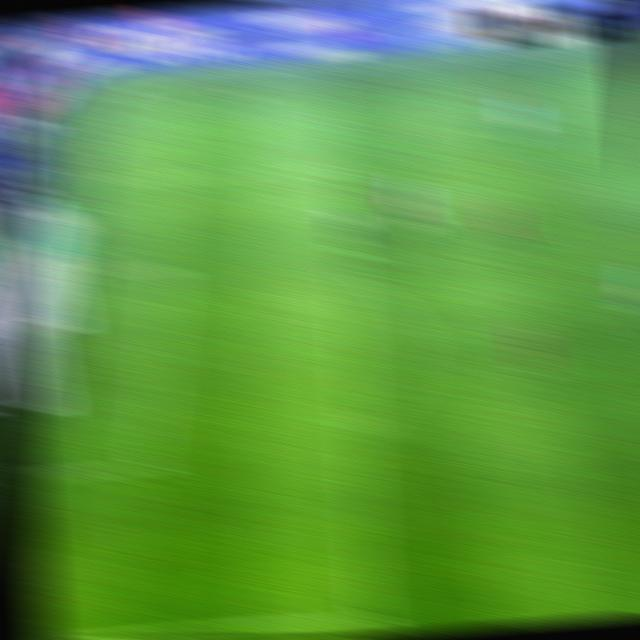bigarea_bottom_inner: (348, 597, 393, 633)
bigarea_top_inner: (319, 156, 362, 184)
bigarea_top_outter: (79, 168, 116, 191)
bottom_arc_area_intersection: (339, 416, 378, 442)
corner: (98, 77, 141, 98)
smallarea_bottom_inner: (124, 446, 169, 481)
smallarea_bottom_outter: (17, 456, 61, 491)
smallarea_top_inner: (148, 254, 189, 281)
smallarea_top_outter: (59, 258, 99, 282)
top_arc_area_intersection: (328, 262, 368, 288)
